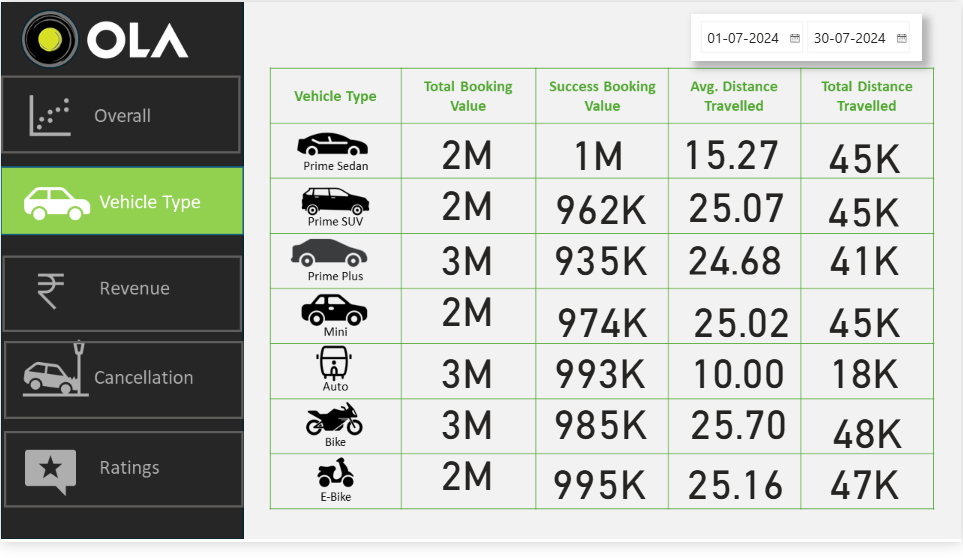

The dashboard page shown, as its layout file describes it:
{"tool":"powerbi","page":{"name":"Vehicle Type","canvas":[1280,720],"ordinal":1},"visuals":[{"type":"card","fields":{"Values":["Sum(July.Booking_Value)"]},"box":[566.9,162.5,109.6,68],"z":0},{"type":"card","fields":{"Values":["Sum(July.Booking_Value)"]},"box":[740.8,164.4,109.6,68],"z":1000},{"type":"card","fields":{"Values":["Sum(July.Booking_Value)"]},"box":[566.9,453.5,109.6,68],"z":2000},{"type":"card","fields":{"Values":["Sum(July.Booking_Value)"]},"box":[566.9,230.6,109.6,68],"z":3000},{"type":"card","fields":{"Values":["Sum(July.Booking_Value)"]},"box":[729.5,385.5,141.7,68],"z":4000},{"type":"card","fields":{"Values":["Sum(July.Booking_Value)"]},"box":[566.9,372.3,109.6,68],"z":5000},{"type":"card","fields":{"Values":["Sum(July.Booking_Value)"]},"box":[566.9,304.3,109.6,68],"z":6000},{"type":"card","fields":{"Values":["Sum(July.Booking_Value)"]},"box":[729.5,304.3,138,68],"z":7000},{"type":"card","fields":{"Values":["Sum(July.Booking_Value)"]},"box":[729.5,236.2,138,68],"z":8000},{"type":"card","fields":{"Values":["Avg(July.Ride_Distance)"]},"box":[892,162.5,160.6,69.9],"z":9000},{"type":"card","fields":{"Values":["Sum(July.Booking_Value)"]},"box":[725.7,602.8,141.7,68],"z":10000},{"type":"card","fields":{"Values":["Sum(July.Booking_Value)"]},"box":[566.9,589.6,109.6,68],"z":11000},{"type":"card","fields":{"Values":["Sum(July.Booking_Value)"]},"box":[723.8,521.6,149.3,68],"z":12000},{"type":"card","fields":{"Values":["Sum(July.Booking_Value)"]},"box":[566.9,521.6,109.6,68],"z":13000},{"type":"card","fields":{"Values":["Sum(July.Booking_Value)"]},"box":[727.6,453.5,139.8,68],"z":14000},{"type":"card","fields":{"Values":["Sum(July.Ride_Distance)"]},"box":[1096.1,168.2,109.6,68],"z":15000},{"type":"card","fields":{"Values":["Avg(July.Ride_Distance)"]},"box":[888.2,306.1,179.5,62.4],"z":17000},{"type":"card","fields":{"Values":["Avg(July.Ride_Distance)"]},"box":[892,236.2,175.7,62.4],"z":18000},{"type":"card","fields":{"Values":["Sum(July.Ride_Distance)"]},"box":[1062.1,241.9,175.7,62.4],"z":21000},{"type":"card","fields":{"Values":["Sum(July.Ride_Distance)"]},"box":[1096.1,304.3,109.6,68],"z":22000},{"type":"card","fields":{"Values":["Avg(July.Ride_Distance)"]},"box":[916.5,385.5,141.7,68],"z":23000},{"type":"card","fields":{"Values":["Sum(July.Ride_Distance)"]},"box":[1079.1,385.5,141.7,68],"z":24000},{"type":"card","fields":{"Values":["Avg(July.Ride_Distance)"]},"box":[912.8,453.5,139.8,68],"z":25000},{"type":"card","fields":{"Values":["Sum(July.Ride_Distance)"]},"box":[1081,453.5,139.8,68],"z":26000},{"type":"card","fields":{"Values":["Avg(July.Ride_Distance)"]},"box":[909,521.6,149.3,68],"z":27000},{"type":"card","fields":{"Values":["Sum(July.Ride_Distance)"]},"box":[1079.1,534.8,149.3,68],"z":27001},{"type":"card","fields":{"Values":["Avg(July.Ride_Distance)"]},"box":[909,602.8,141.7,68],"z":27002},{"type":"card","fields":{"Values":["Sum(July.Ride_Distance)"]},"box":[1081,602.8,141.7,68],"z":27003},{"type":"slicer","fields":{"Values":["July.Date"]},"box":[920.3,15.1,308,62.4],"z":27004},{"type":"actionButton","box":[0,98.3,319.4,103.9],"z":27005},{"type":"actionButton","box":[1.9,338.3,319.4,102],"z":27006},{"type":"actionButton","box":[3.8,451.7,319.4,103.9],"z":27007},{"type":"actionButton","box":[3.8,572.6,319.4,102],"z":27008}]}

Visuals, with their boxes on the page's 1280x720 design canvas (x1, y1, x2, y2). These are canvas units, not pixel positions in the 963x558 screenshot, which may show the page scaled, cropped or inside an application window:
card - Sum(July.Booking_Value): x1=567 y1=162 x2=676 y2=230
card - Sum(July.Booking_Value): x1=741 y1=164 x2=850 y2=232
card - Sum(July.Booking_Value): x1=567 y1=454 x2=676 y2=522
card - Sum(July.Booking_Value): x1=567 y1=231 x2=676 y2=299
card - Sum(July.Booking_Value): x1=730 y1=386 x2=871 y2=454
card - Sum(July.Booking_Value): x1=567 y1=372 x2=676 y2=440
card - Sum(July.Booking_Value): x1=567 y1=304 x2=676 y2=372
card - Sum(July.Booking_Value): x1=730 y1=304 x2=868 y2=372
card - Sum(July.Booking_Value): x1=730 y1=236 x2=868 y2=304
card - Avg(July.Ride_Distance): x1=892 y1=162 x2=1053 y2=232
card - Sum(July.Booking_Value): x1=726 y1=603 x2=867 y2=671
card - Sum(July.Booking_Value): x1=567 y1=590 x2=676 y2=658
card - Sum(July.Booking_Value): x1=724 y1=522 x2=873 y2=590
card - Sum(July.Booking_Value): x1=567 y1=522 x2=676 y2=590
card - Sum(July.Booking_Value): x1=728 y1=454 x2=867 y2=522
card - Sum(July.Ride_Distance): x1=1096 y1=168 x2=1206 y2=236
card - Avg(July.Ride_Distance): x1=888 y1=306 x2=1068 y2=368
card - Avg(July.Ride_Distance): x1=892 y1=236 x2=1068 y2=299
card - Sum(July.Ride_Distance): x1=1062 y1=242 x2=1238 y2=304
card - Sum(July.Ride_Distance): x1=1096 y1=304 x2=1206 y2=372
card - Avg(July.Ride_Distance): x1=916 y1=386 x2=1058 y2=454
card - Sum(July.Ride_Distance): x1=1079 y1=386 x2=1221 y2=454
card - Avg(July.Ride_Distance): x1=913 y1=454 x2=1053 y2=522
card - Sum(July.Ride_Distance): x1=1081 y1=454 x2=1221 y2=522
card - Avg(July.Ride_Distance): x1=909 y1=522 x2=1058 y2=590
card - Sum(July.Ride_Distance): x1=1079 y1=535 x2=1228 y2=603
card - Avg(July.Ride_Distance): x1=909 y1=603 x2=1051 y2=671
card - Sum(July.Ride_Distance): x1=1081 y1=603 x2=1223 y2=671
slicer - July.Date: x1=920 y1=15 x2=1228 y2=78
actionButton: x1=0 y1=98 x2=319 y2=202
actionButton: x1=2 y1=338 x2=321 y2=440
actionButton: x1=4 y1=452 x2=323 y2=556
actionButton: x1=4 y1=573 x2=323 y2=675
